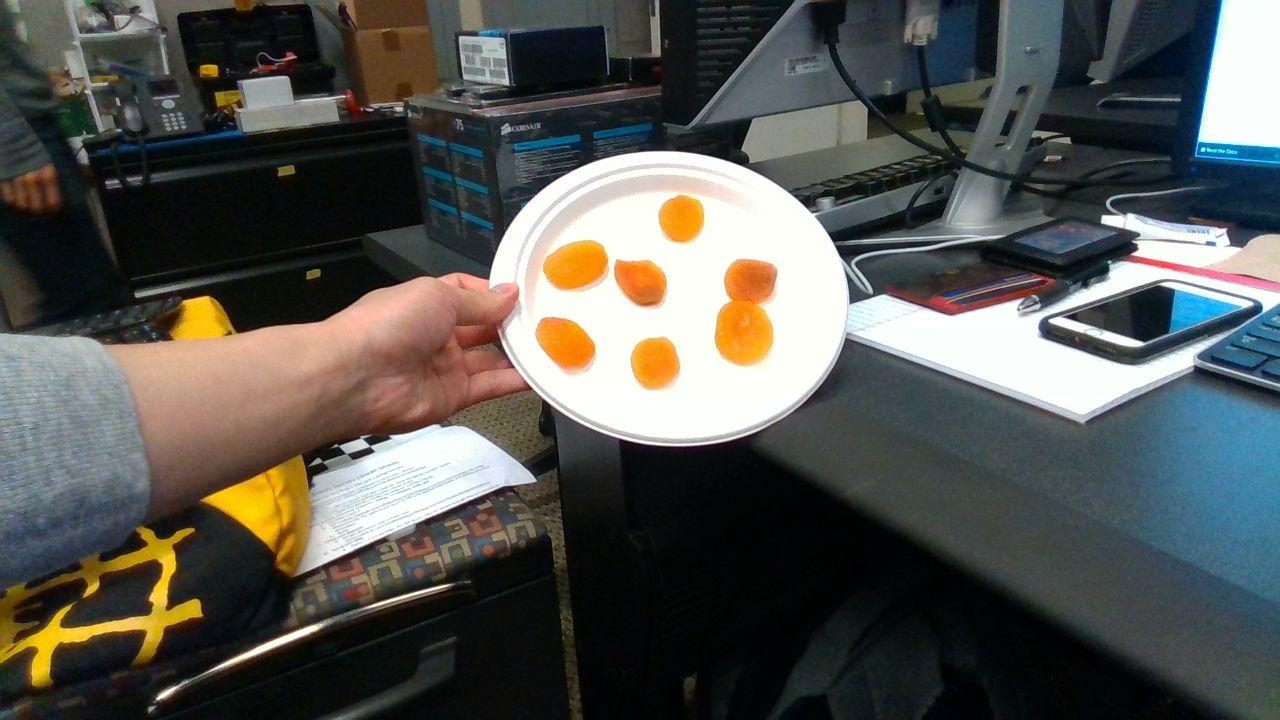apricot: (717, 301, 772, 364), (536, 316, 594, 370), (544, 241, 608, 289), (629, 338, 680, 389), (615, 258, 666, 306), (726, 259, 777, 304), (660, 196, 703, 242)
